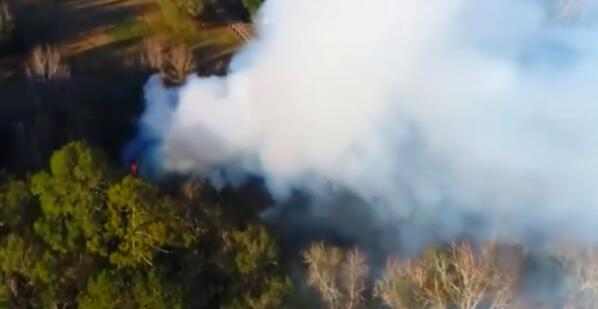yanwu: (133, 1, 598, 280)
